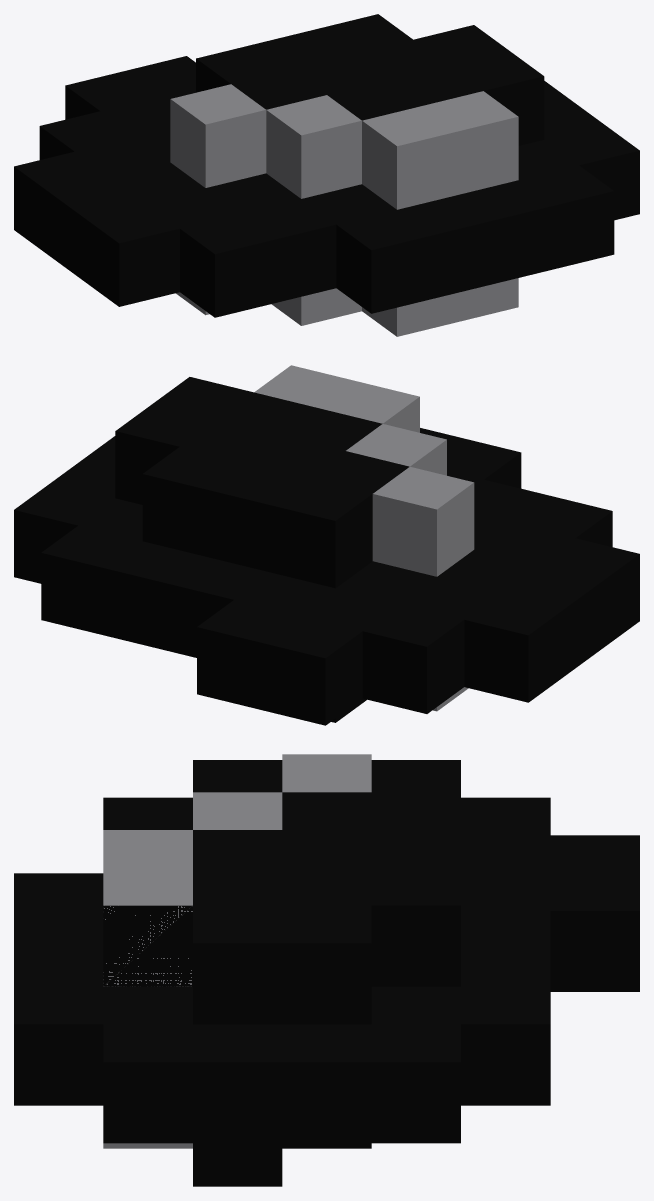
The model's file is hills.glb.
3 views of the same model, one above another, from view 1: azimuth 30°, elevation 25°; view 2: azimuth 150°, elevation 25°; view 3: azimuth 270°, elevation 25° (orthographic). The views are drawn at different scales.
Visible parts, largest first — view 1: coal; view 2: coal; view 3: coal.
Boxes of the visible parts, x1,y1,x2,y2 form: coal: [14, 14, 639, 336]; coal: [14, 365, 639, 725]; coal: [14, 754, 639, 1186].
Bounding box in the file's own units: 0.5 × 0.1875 × 0.4375.
1 material, 1 textured.
